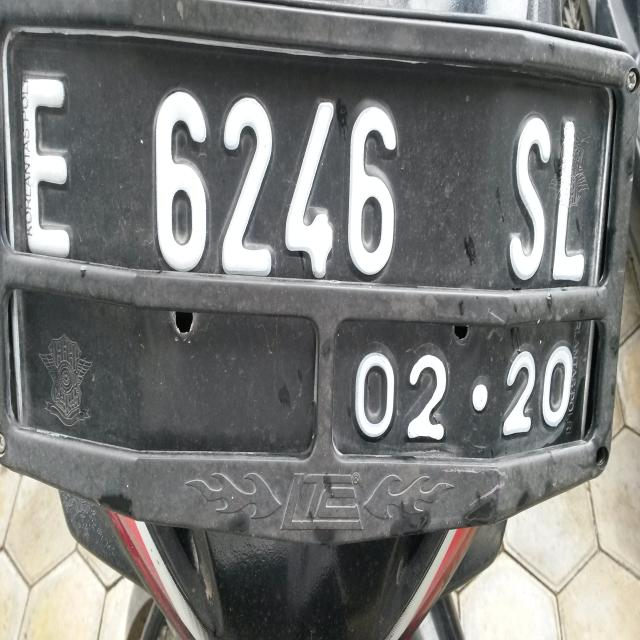plate: (1, 26, 615, 464)
